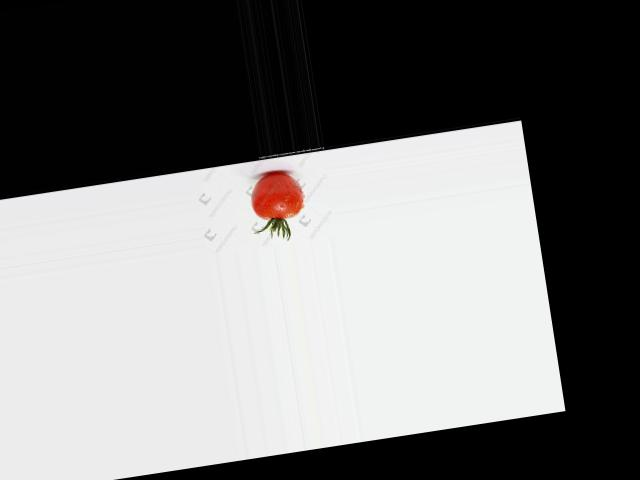tomato: (246, 168, 304, 222)
